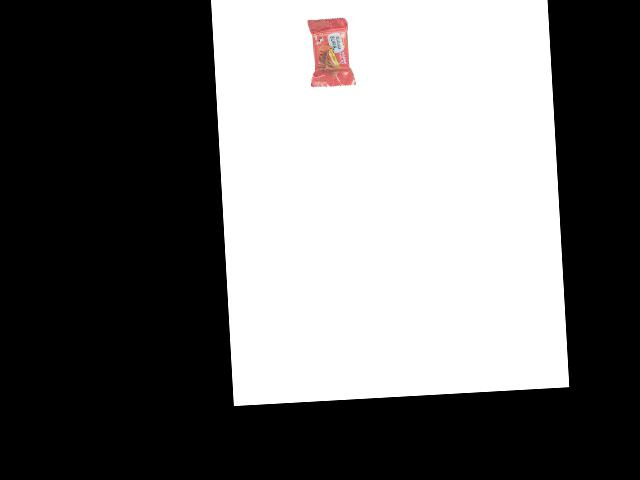chocolate: (307, 10, 360, 88)
